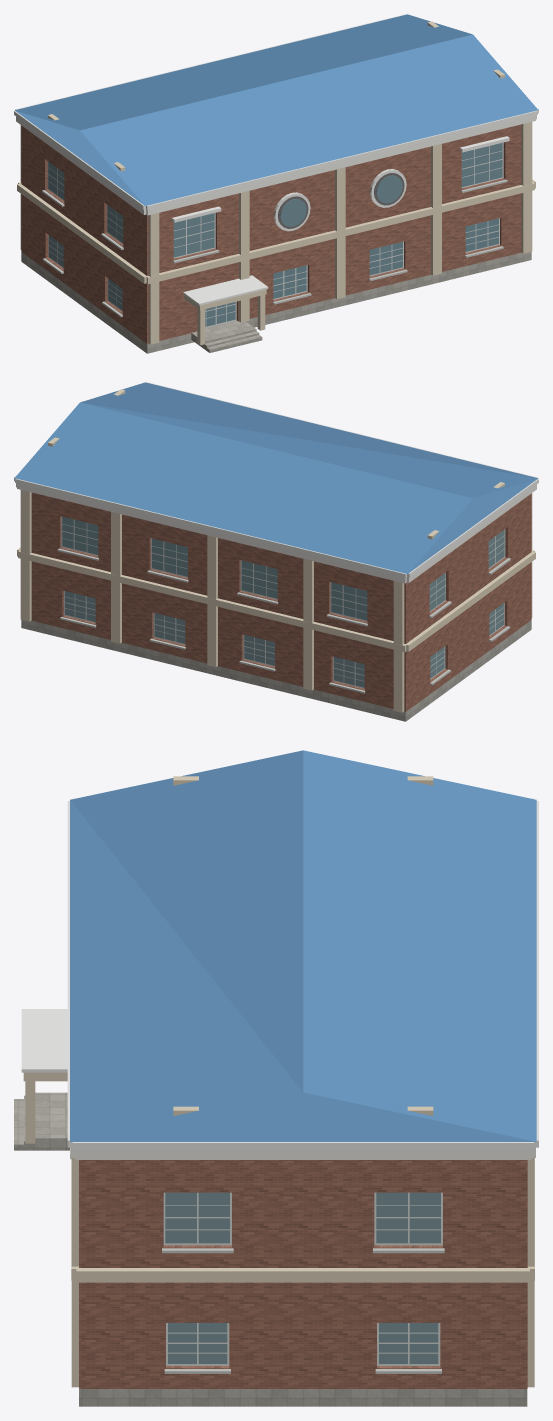
The picture shows the model from 3 angles, top to bottom: view 1: azimuth 30°, elevation 25°; view 2: azimuth 150°, elevation 25°; view 3: azimuth 270°, elevation 25°; orthographic projection. The views are drawn at different scales.
Parts seen in each view (by area): view 1: gym__blueroof, gym__brick, gym__rotundawall, gym__cap, gym__stone, gym__clerestoryglass, gym__glass, gym__band, gym__frame, gym__sideglass, gym__sill, gym__stair-front (+2 smaller); view 2: gym__blueroof, gym__brick, gym__rotundawall, gym__stone, gym__sideglass, gym__clerestoryglass, gym__cap, gym__band, gym__frame, gym__sill; view 3: gym__blueroof, gym__brick, gym__rotundawall, gym__sideglass, gym__cap, gym__stone, gym__band, gym__frame, gym__sill, gym__threshold-front, gym__stair-front.
Part boxes in pixels (x1,y1,x2,y2): gym__blueroof: (15,14,538,205); gym__brick: (21,124,521,343); gym__rotundawall: (17,21,535,345); gym__cap: (14,14,538,305); gym__stone: (21,252,531,353); gym__clerestoryglass: (173,143,502,257); gym__glass: (205,218,498,326); gym__band: (16,115,536,215); gym__frame: (47,142,503,327); gym__sideglass: (48,161,123,310); gym__sill: (42,179,507,317); gym__stair-front: (201,327,262,352); gym__blueroof: (14,382,537,573); gym__brick: (31,492,531,711); gym__rotundawall: (17,389,535,712); gym__stone: (21,620,531,721); gym__sideglass: (65,529,504,687); gym__clerestoryglass: (62,516,367,620); gym__cap: (14,382,538,577); gym__band: (16,483,536,583); gym__frame: (61,516,505,688); gym__sill: (57,548,510,693); gym__blueroof: (70,750,536,1141); gym__brick: (79,1160,527,1388); gym__rotundawall: (23,776,534,1387); gym__sideglass: (165,1192,440,1363); gym__cap: (21,798,538,1159); gym__stone: (79,1388,527,1406); gym__band: (70,1147,535,1159); gym__frame: (163,1192,442,1365); gym__sill: (162,1248,444,1373); gym__threshold-front: (44,1092,69,1150); gym__stair-front: (14,1092,43,1150).
Size of the model in its own units: 30.88 by 13.31 by 19.91.
13 materials, 3 textured.
